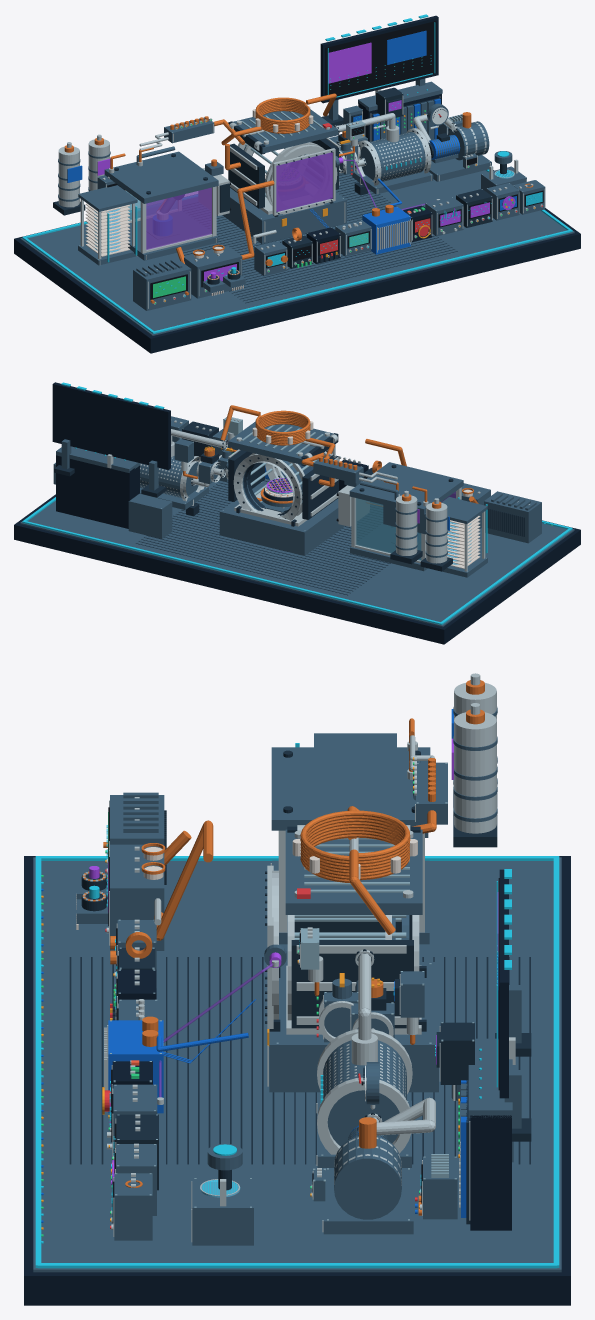
Rendered from Level71_Complete_ArtKit_Showcase.fbx.
3 views of the same model, one above another, from view 1: azimuth 30°, elevation 25°; view 2: azimuth 150°, elevation 25°; view 3: azimuth 270°, elevation 25° (orthographic). The views are drawn at different scales.
Parts seen in each view (by area): view 1: Level71_Complete_ArtKit_Showcase; view 2: Level71_Complete_ArtKit_Showcase; view 3: Level71_Complete_ArtKit_Showcase.
Part boxes in pixels (x1,y1,x2,y2): Level71_Complete_ArtKit_Showcase: [14, 14, 580, 353]; Level71_Complete_ArtKit_Showcase: [14, 382, 580, 644]; Level71_Complete_ArtKit_Showcase: [24, 673, 570, 1305].
Bounding box in the file's own units: 1580 × 551 × 870.
